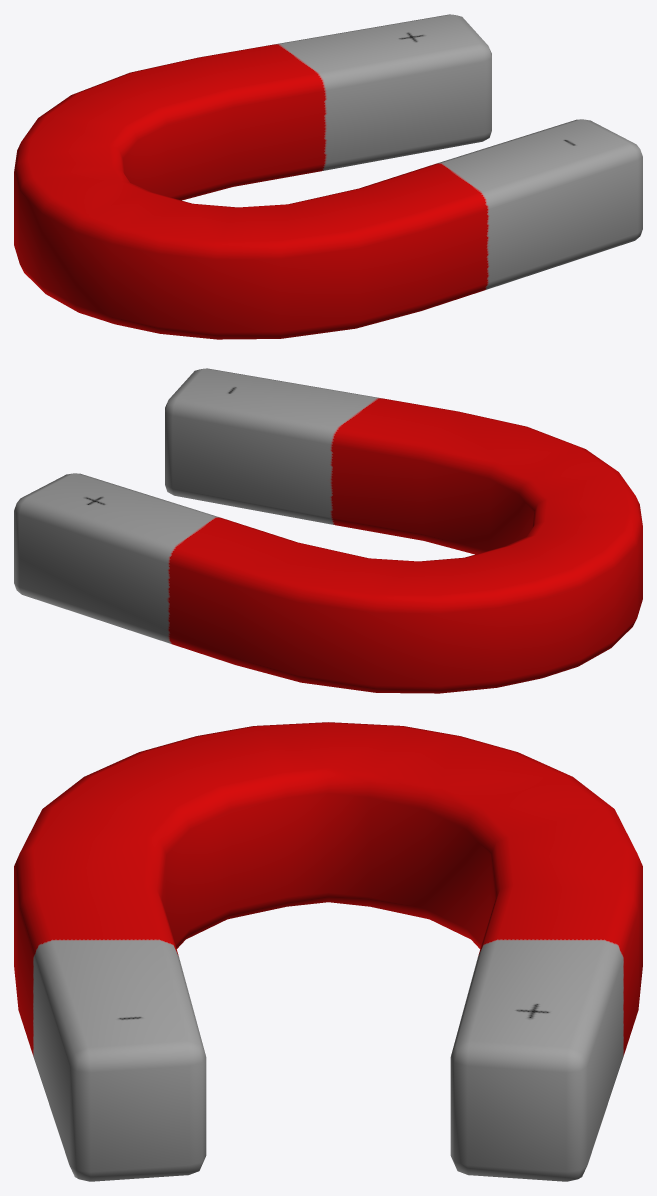
File: Calamita.fbx
3 views of the same model, one above another, from view 1: azimuth 30°, elevation 25°; view 2: azimuth 150°, elevation 25°; view 3: azimuth 270°, elevation 25° (orthographic). The views are drawn at different scales.
Visible parts, largest first — view 1: Plane; view 2: Plane; view 3: Plane.
Boxes of the visible parts, <box> form: Plane: <box>14,14,642,339</box>; Plane: <box>14,368,642,693</box>; Plane: <box>14,722,642,1181</box>.
Bounding box in the file's own units: 433 × 79.19 × 337.
1 material, 1 textured.
